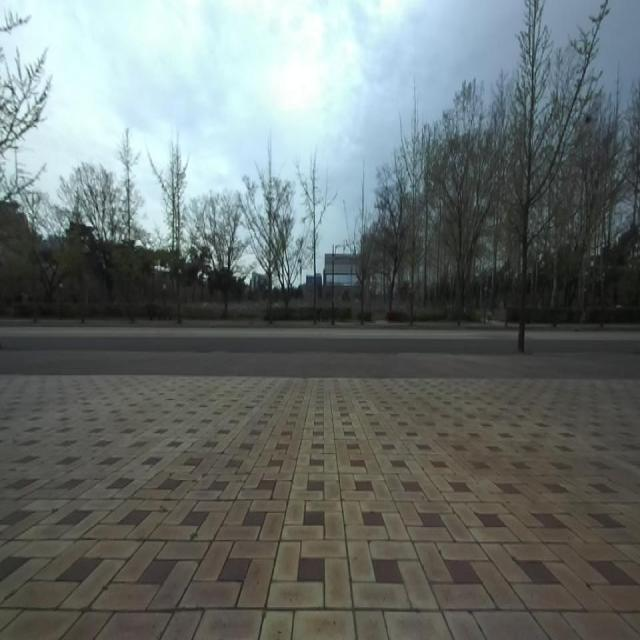sidewalk: (0, 350, 640, 378)
